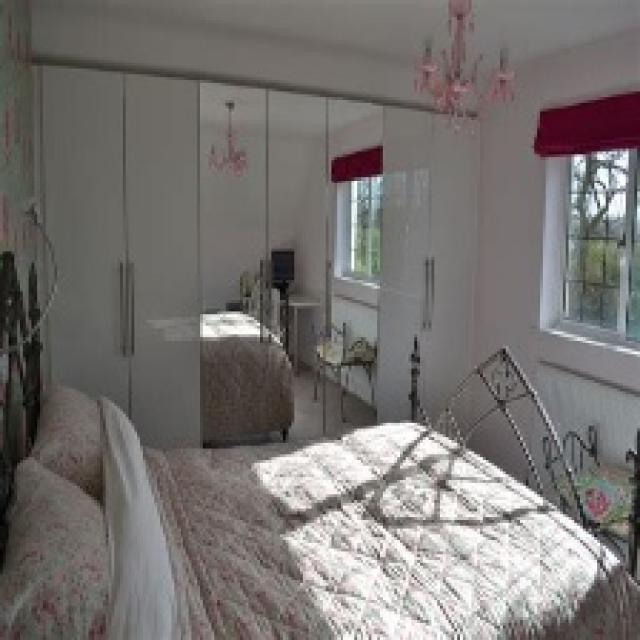Bed: (0, 343, 637, 637)
